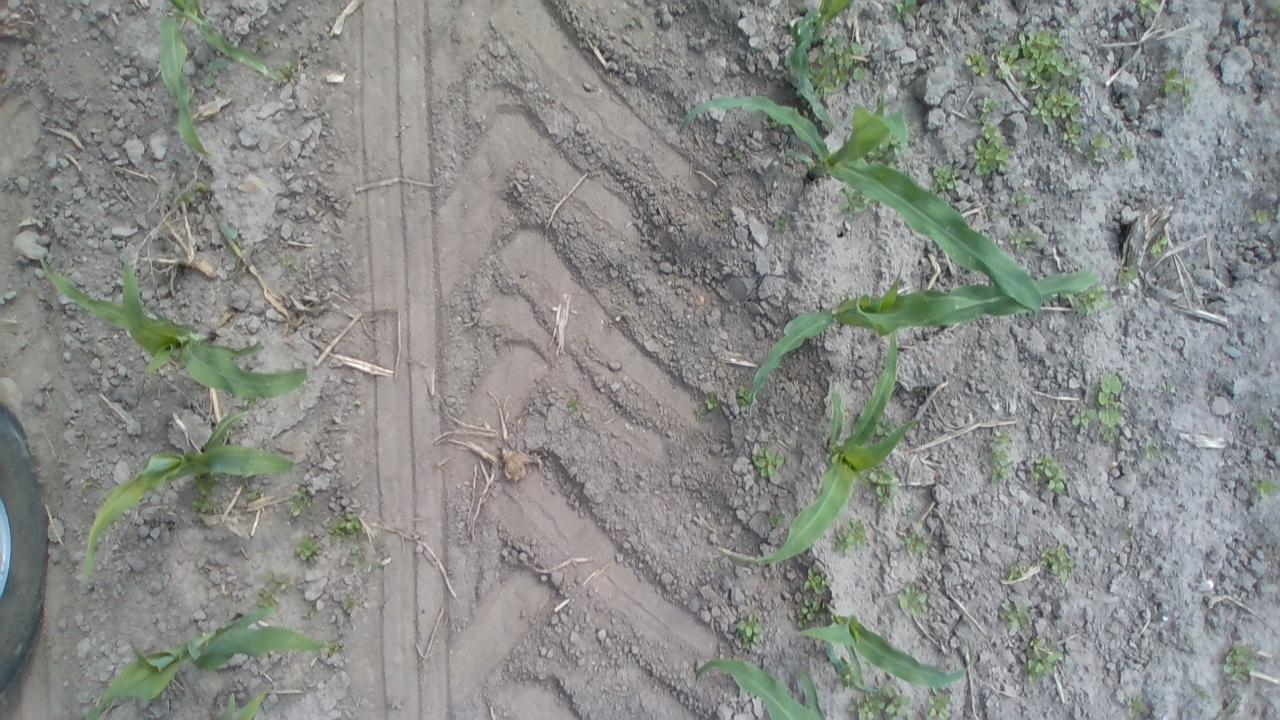Maize: (681, 94, 1043, 316), (744, 271, 1098, 418), (724, 328, 919, 563), (34, 250, 315, 402), (81, 408, 308, 590), (90, 608, 328, 717), (153, 0, 282, 158), (814, 594, 966, 690), (778, 0, 854, 131), (695, 650, 825, 720)
Weeds: (1014, 31, 1080, 132), (816, 40, 884, 92), (971, 90, 1008, 177), (1022, 458, 1082, 499), (1088, 376, 1128, 434), (990, 588, 1036, 636), (1025, 639, 1072, 680), (852, 689, 906, 720), (1224, 643, 1260, 689), (892, 580, 935, 618), (870, 467, 903, 515), (1240, 465, 1280, 503), (290, 524, 324, 568), (732, 606, 769, 646), (800, 569, 826, 622), (990, 428, 1011, 492), (1160, 63, 1192, 104), (333, 512, 362, 550), (1080, 142, 1128, 164), (750, 448, 783, 479), (1044, 540, 1074, 574), (831, 522, 866, 551), (926, 686, 954, 720), (1077, 290, 1112, 316), (1116, 259, 1144, 291), (192, 486, 224, 512), (276, 256, 304, 284), (256, 582, 290, 605), (904, 528, 925, 561), (244, 30, 267, 60), (928, 163, 958, 186), (270, 60, 300, 82), (966, 48, 989, 76), (293, 481, 309, 520), (324, 636, 346, 664), (1150, 234, 1171, 260), (245, 485, 262, 509), (1010, 185, 1029, 206), (1008, 228, 1032, 244), (702, 395, 720, 413)
